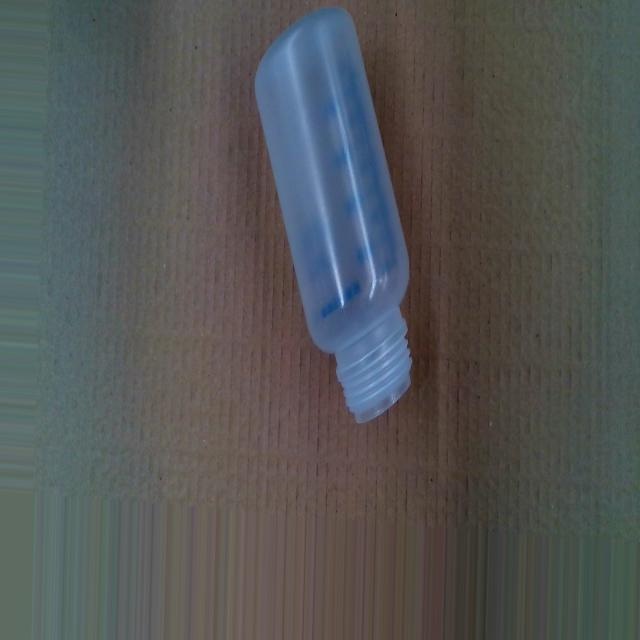bottle: (252, 8, 412, 428)
